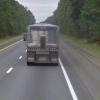Tree: (67, 0, 100, 49)
